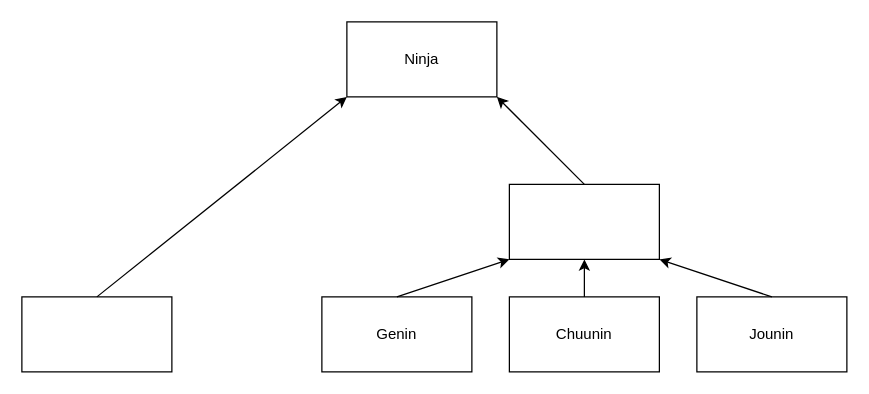
This 869x394 diagram has some shape labels left out. Each missing label, with the centre of its shape:
AcademicStudent: the point at 96,334
RankedNinja: the point at 583,221
